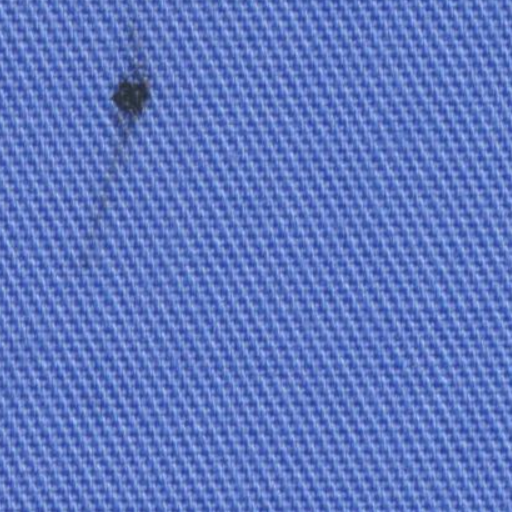WuZi: (50, 16, 188, 288)
